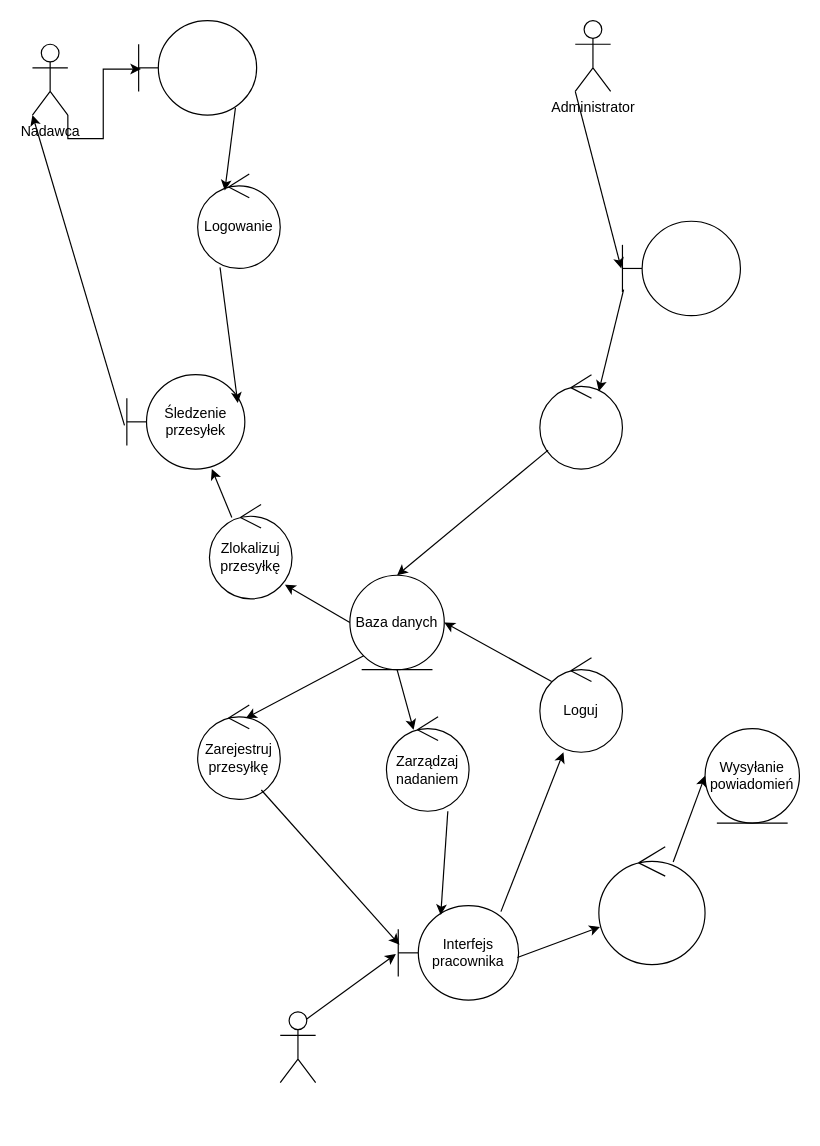
This 820x1146 diagram has some shape labels left out. The centre of each missing label's shape, as x and y in pixels:
Formularz logowania: the point at 197,67
Interfejs administratora: the point at 680,268
Pracownik: the point at 297,1047
Wyślij powiadomienie: the point at 651,905
Zarządzaj: the point at 580,421
